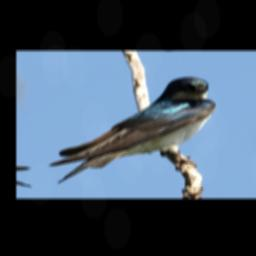Swallow: (27, 74, 234, 190)
